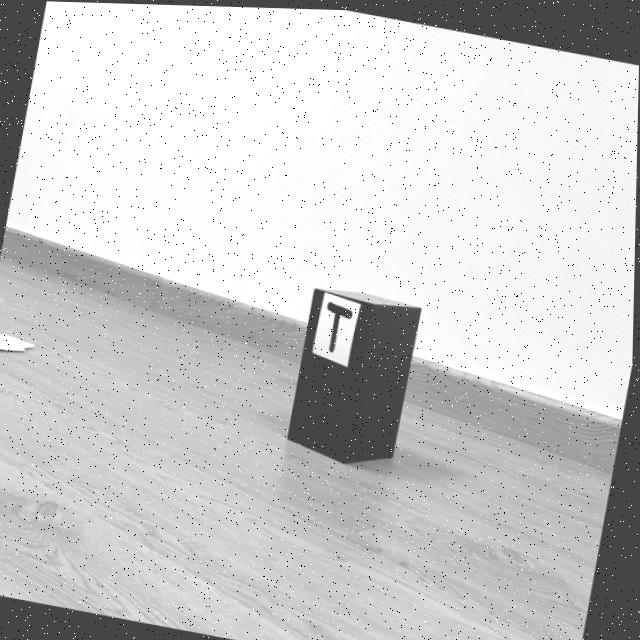T: (328, 300, 354, 351)
